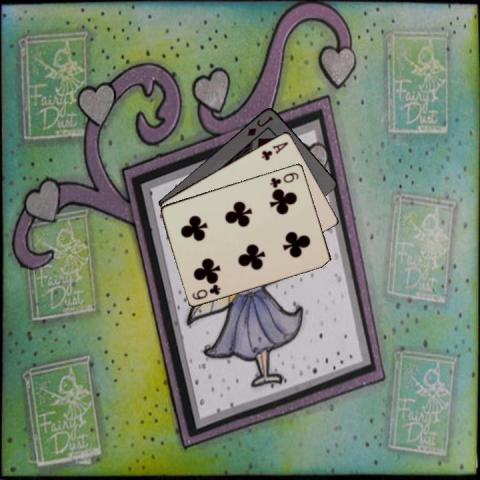6c: (267, 169, 300, 189), (189, 280, 222, 300)
Ac: (258, 139, 289, 161)
Jd: (244, 113, 275, 137)
